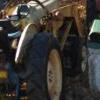Tractor: (5, 3, 100, 98)
